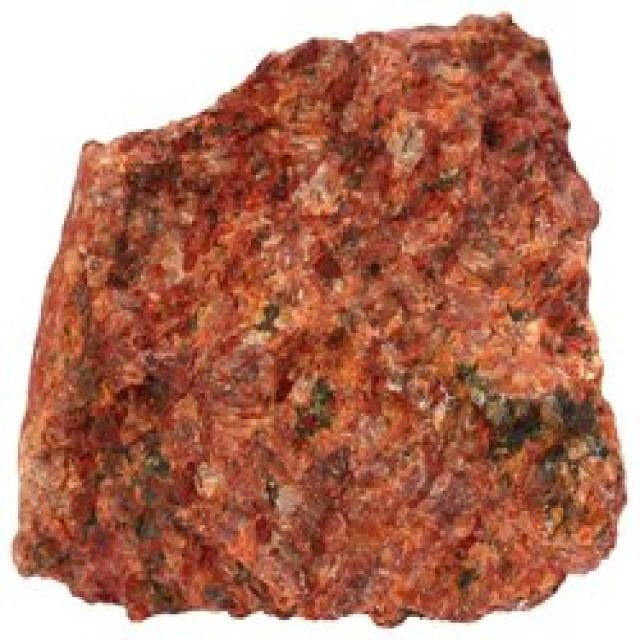Igneous: (2, 15, 632, 634)
